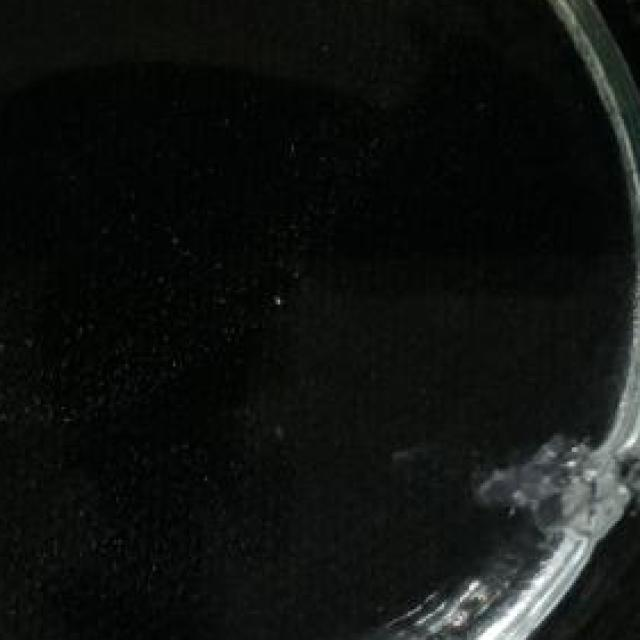Microplastic: (458, 419, 640, 547)
